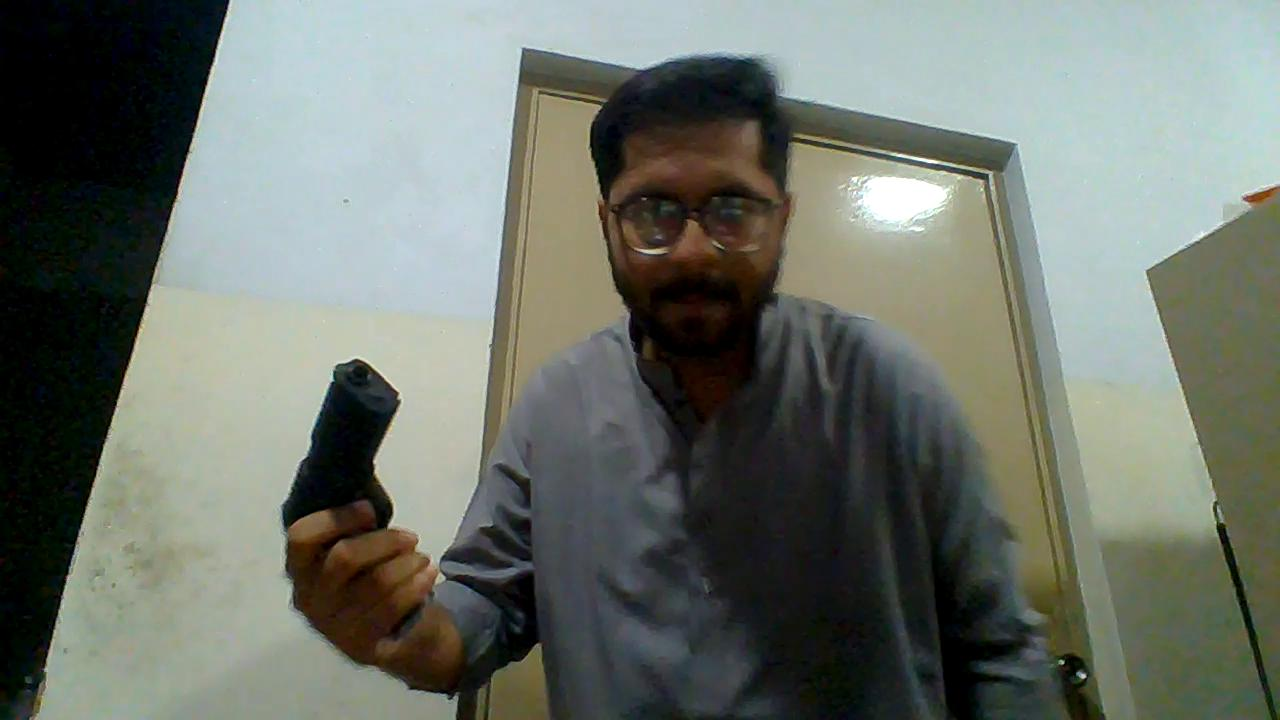criminal: (279, 52, 1070, 720)
weapon: (279, 354, 430, 640)
